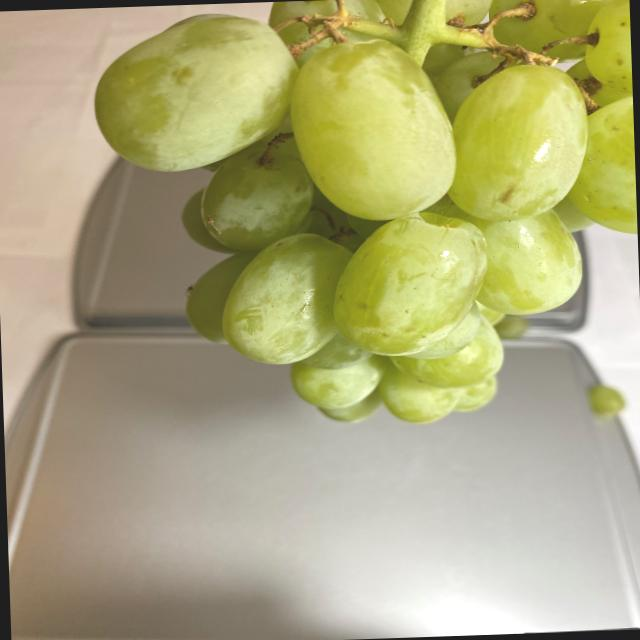grapes: (86, 0, 640, 440)
